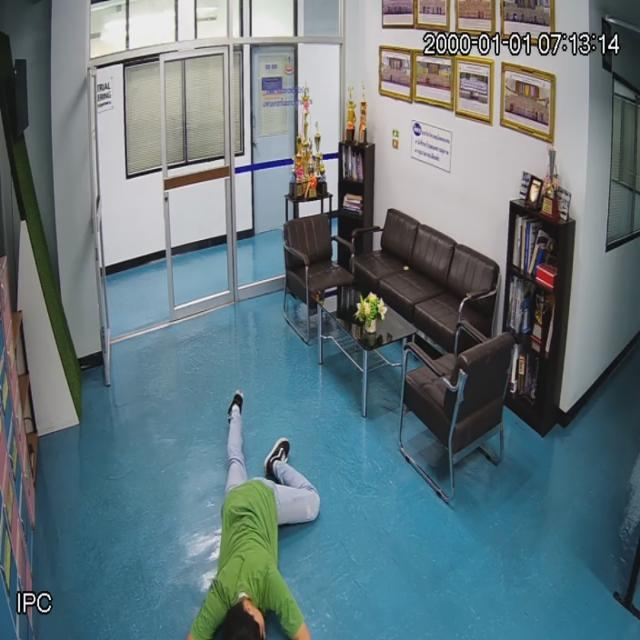fall: (207, 380, 326, 640)
